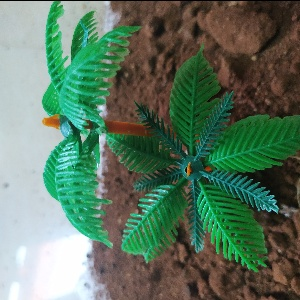plant: (125, 63, 274, 262), (19, 8, 128, 242)
